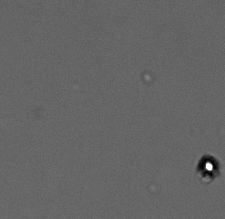Living Cell: (198, 153, 219, 178)
